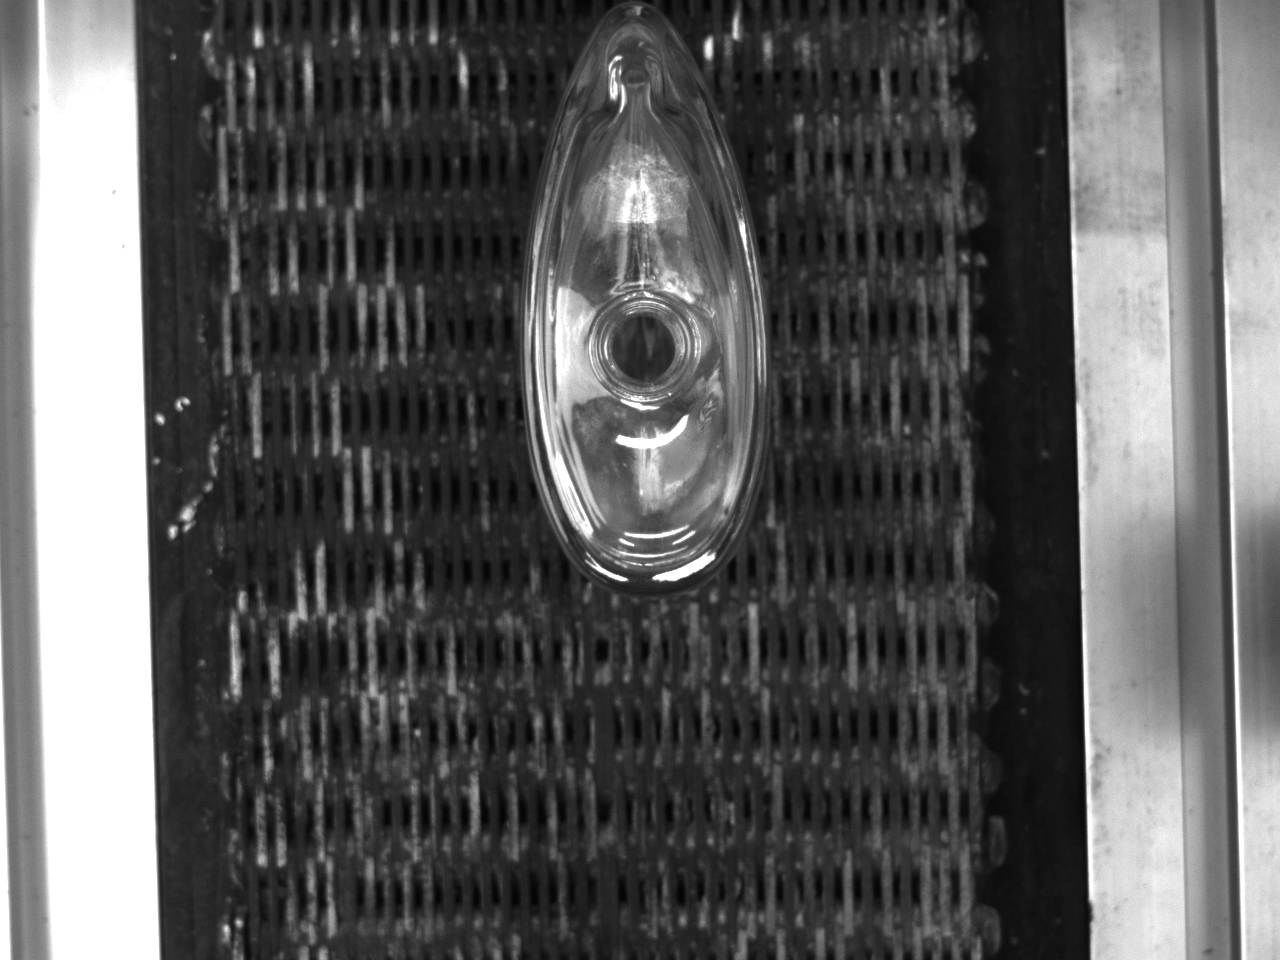bottleneck: (590, 293, 703, 404)
